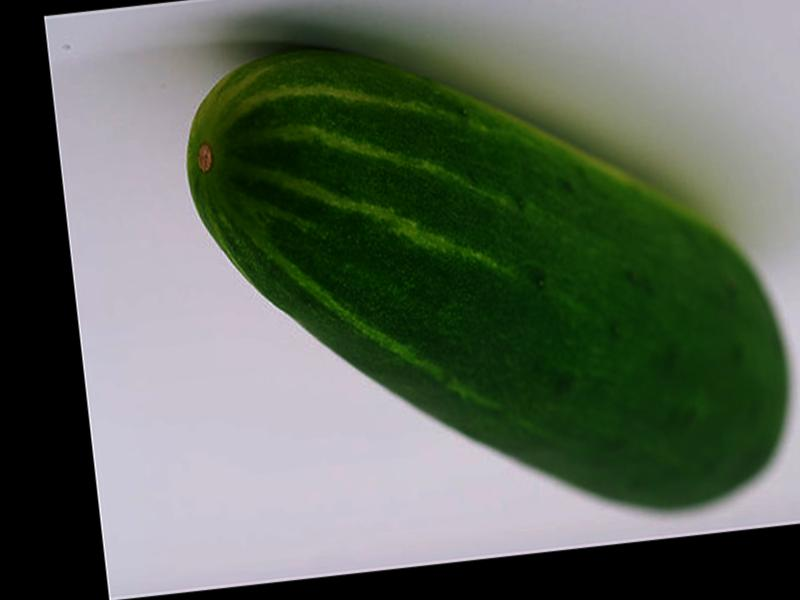Cucumber: (176, 0, 800, 559)
